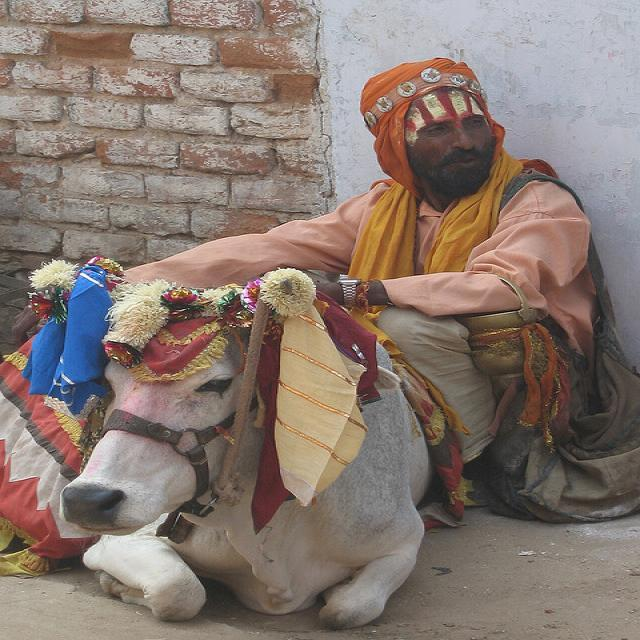cow: (53, 337, 428, 622)
